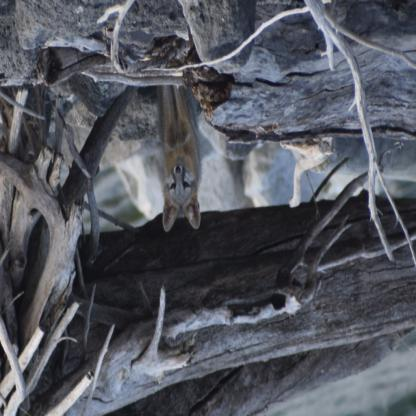zorro: (146, 76, 208, 235)
